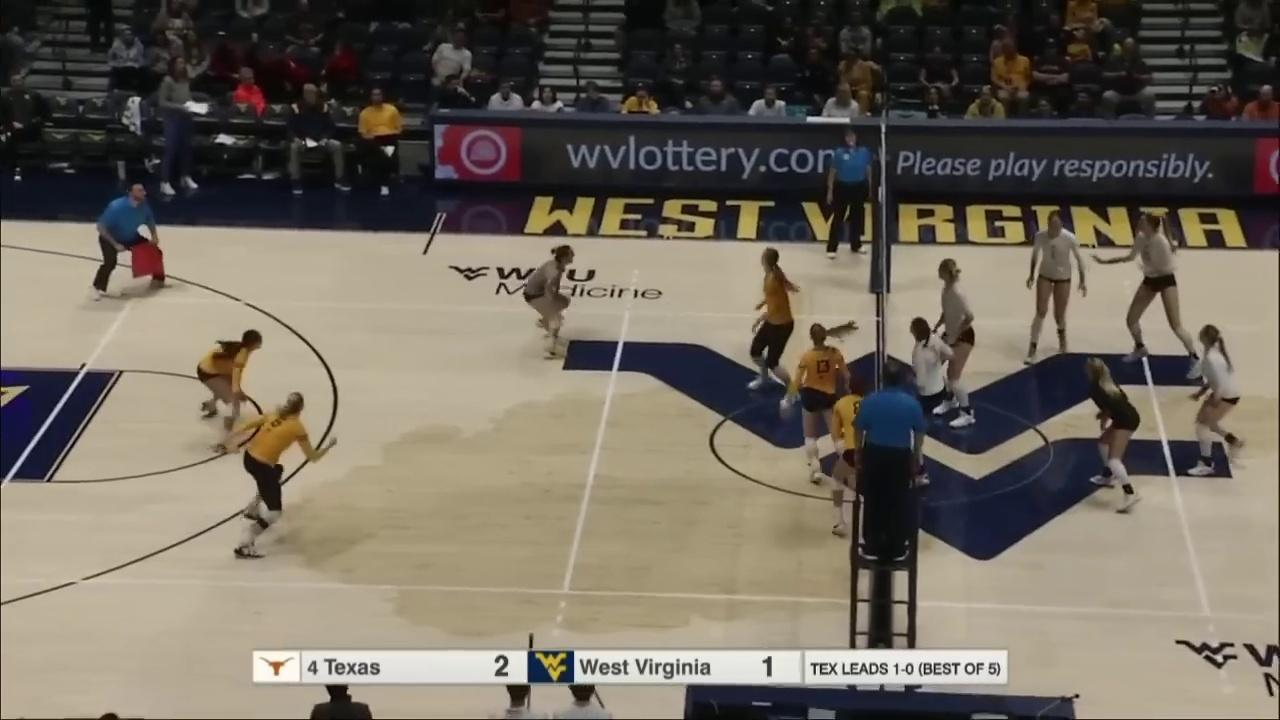player: (214, 392, 339, 560), (1112, 211, 1206, 381), (1022, 212, 1088, 366), (794, 321, 854, 486), (1183, 323, 1246, 477), (1087, 357, 1142, 515), (903, 317, 953, 488), (748, 247, 800, 408), (196, 329, 263, 453), (833, 375, 883, 540), (935, 259, 978, 427), (521, 243, 577, 361)
refree: (858, 363, 924, 560), (88, 183, 172, 302), (826, 127, 875, 256)
